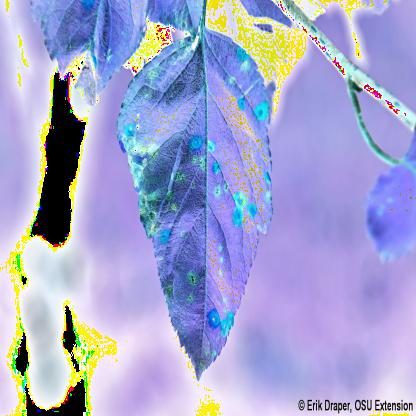Apple rust leaf: (117, 24, 284, 393)
